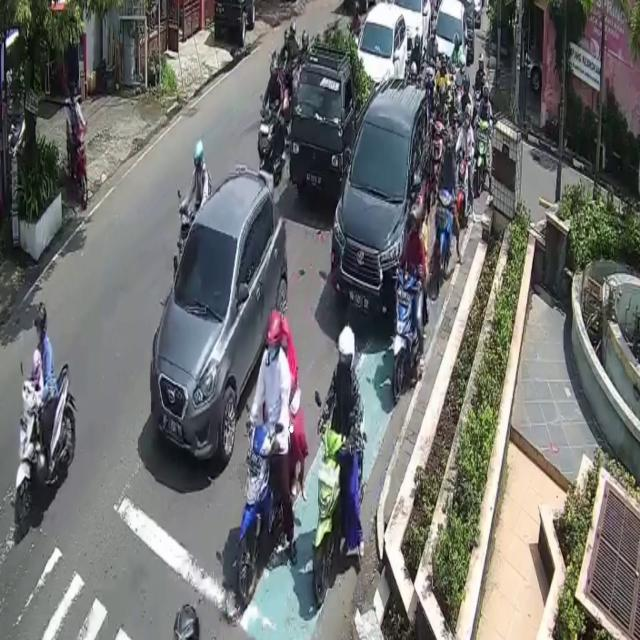car: (146, 166, 288, 459), (330, 77, 434, 326), (290, 42, 376, 200), (358, 0, 409, 84), (434, 0, 468, 95), (394, 0, 431, 58)
motorbike: (235, 425, 299, 606), (15, 362, 76, 534), (313, 425, 363, 609), (392, 271, 418, 405), (258, 106, 286, 190), (437, 187, 453, 292), (474, 118, 494, 198), (69, 132, 89, 210)
